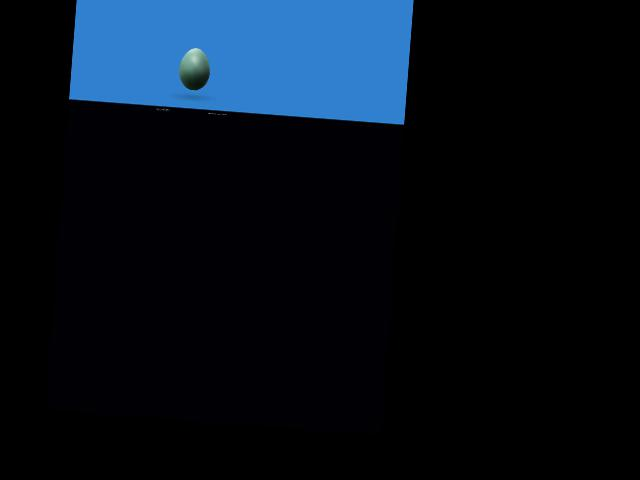egg: (178, 46, 212, 91)
